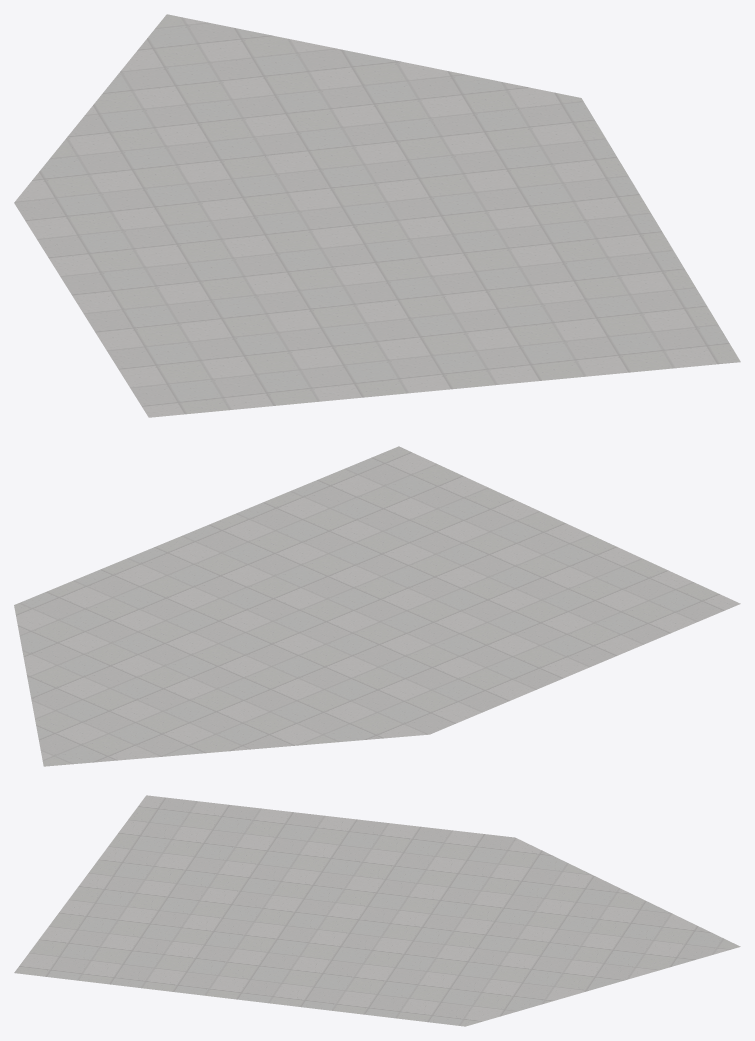
The model's file is kd_stage_1364a3_4_8.glb.
3 views of the same model, one above another, from view 1: azimuth 30°, elevation 25°; view 2: azimuth 150°, elevation 25°; view 3: azimuth 270°, elevation 25° (orthographic). The views are drawn at different scales.
Visible parts, largest first — view 1: kd_stage_1364a3_4_8; view 2: kd_stage_1364a3_4_8; view 3: kd_stage_1364a3_4_8.
Boxes of the visible parts, x1,y1,x2,y2 form: kd_stage_1364a3_4_8: (14,14,740,417); kd_stage_1364a3_4_8: (14,446,740,766); kd_stage_1364a3_4_8: (14,795,740,1026).
Bounding box in the file's own units: 24.27 × 3.81e-06 × 32.23.
Materials: 1 (1 with a texture image).
